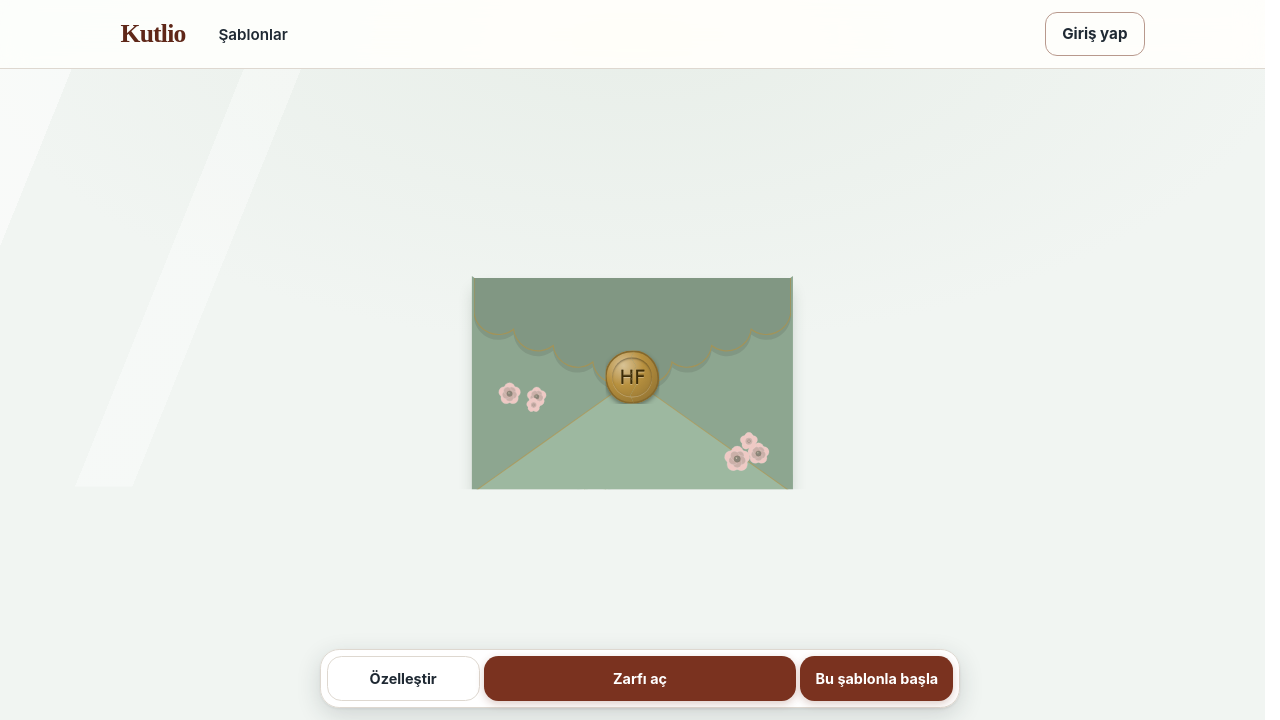
Test: FullPageTemplateDemo bar › renders the zarf invitation as a page with a start link and a customise panel that Escape closes
Click the button "Özelleştir" at coordinates (403, 679), box top-left (327, 656), bottom-right (480, 701)
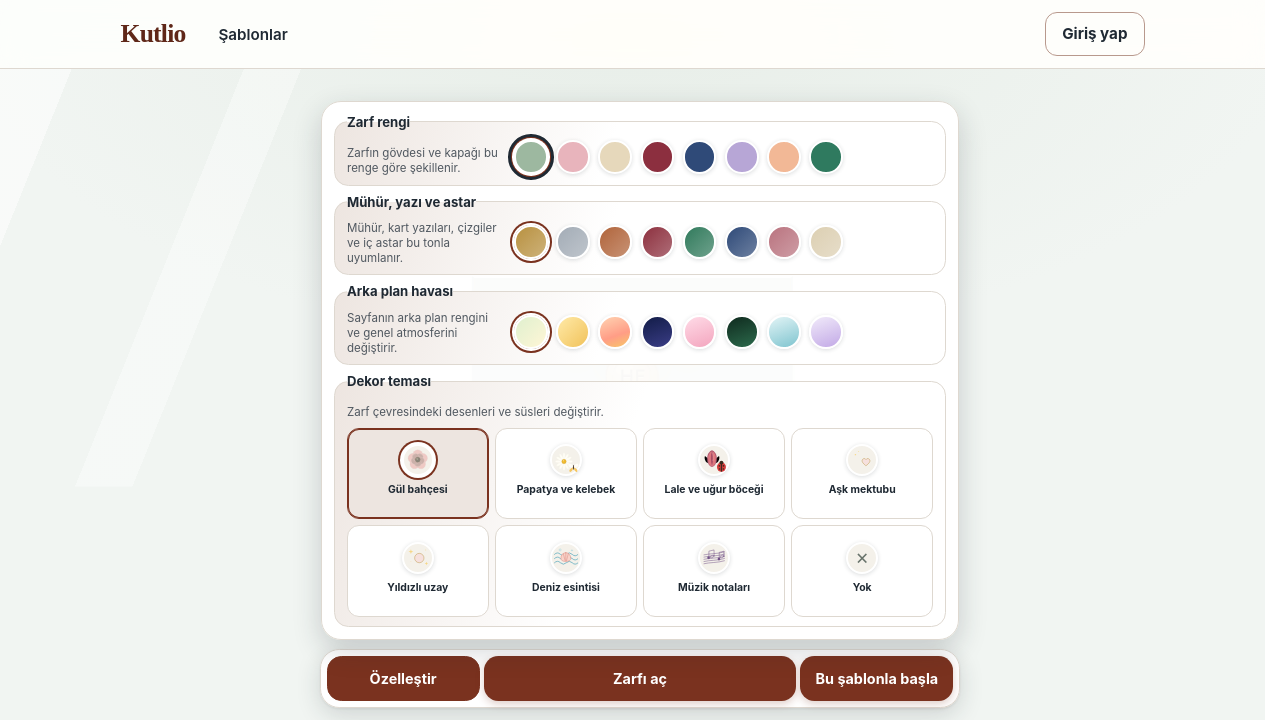
Now the button "Özelleştir" is expanded, box top-left (327, 656), bottom-right (480, 701)
Now the dialog is shown
Press Escape in the dialog, box top-left (321, 101), bottom-right (959, 640)
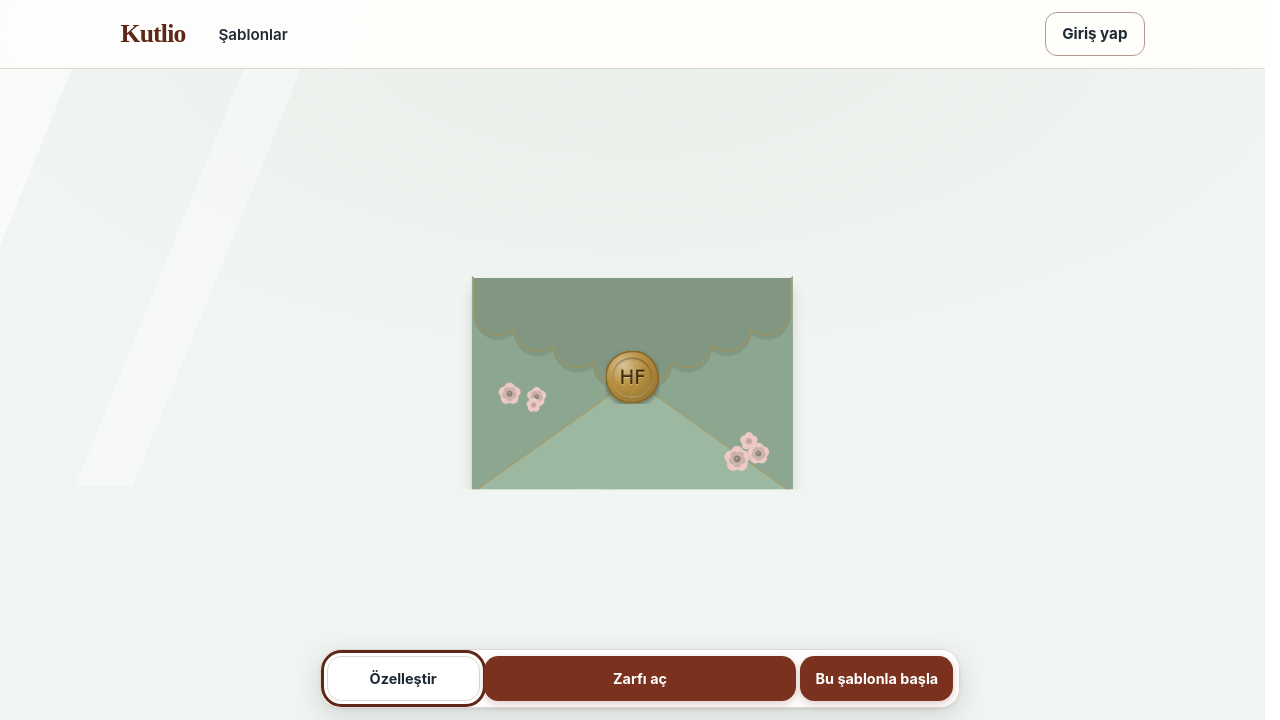
Now the dialog is gone
